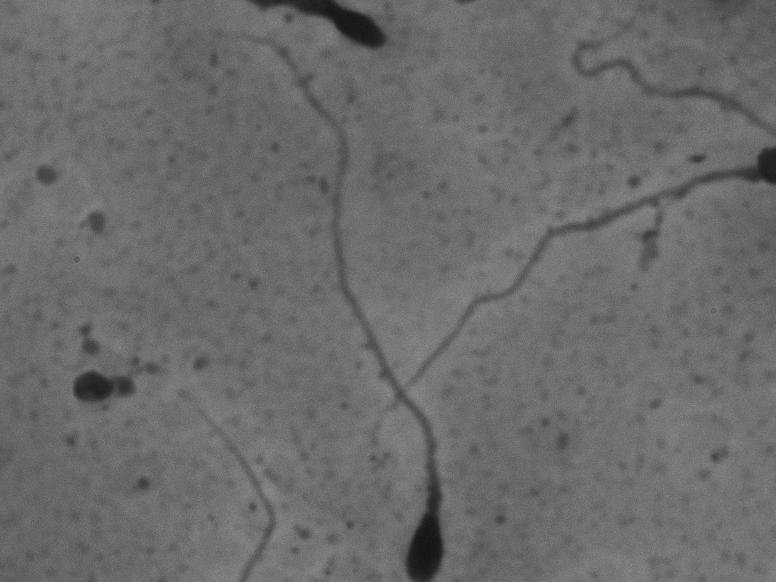Abnormal: (177, 14, 462, 581)
